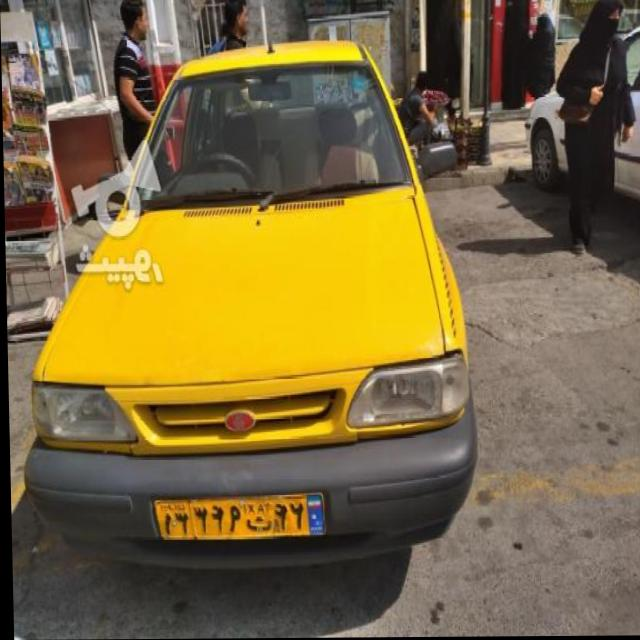licence: (150, 498, 328, 544)
